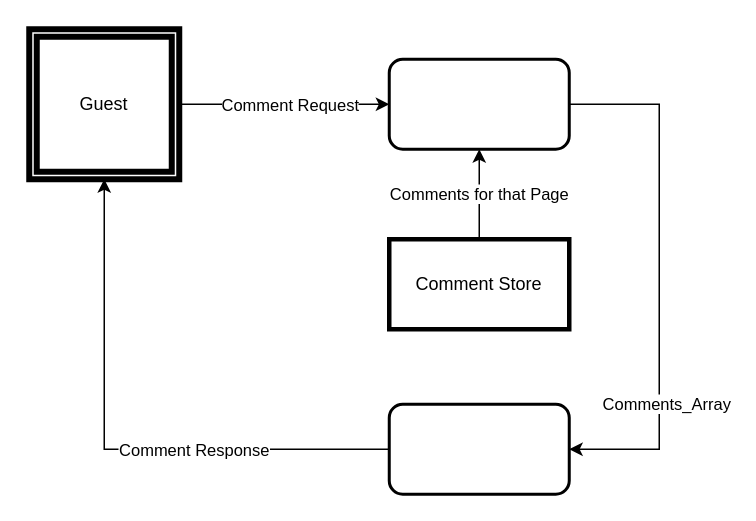
This 756x521 diagram has some shape labels left out. The centre of each missing label's shape, as x and y in pixels:
"Assemble Comments for that Page" goes at (x=478, y=103).
"Build Server Response" goes at (x=478, y=448).
